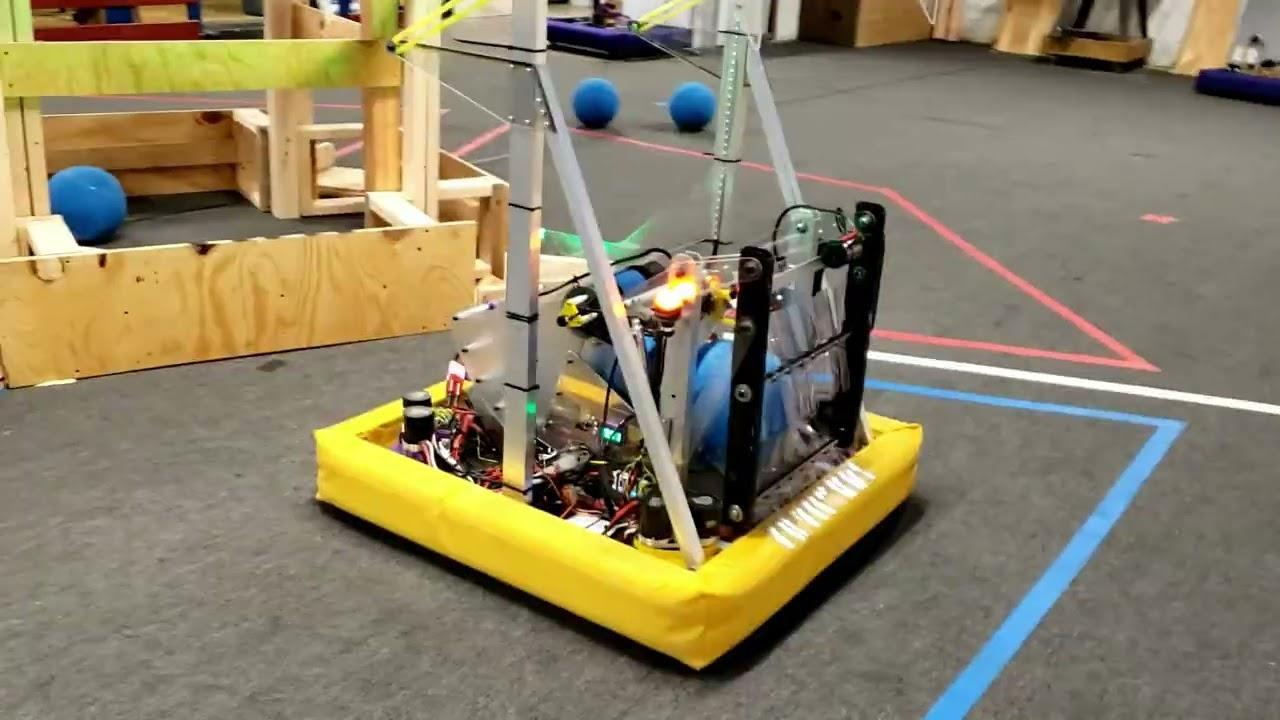robot: (309, 0, 932, 686)
